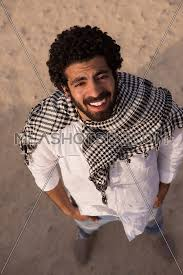middle_eastern_male: (61, 52, 114, 111)
